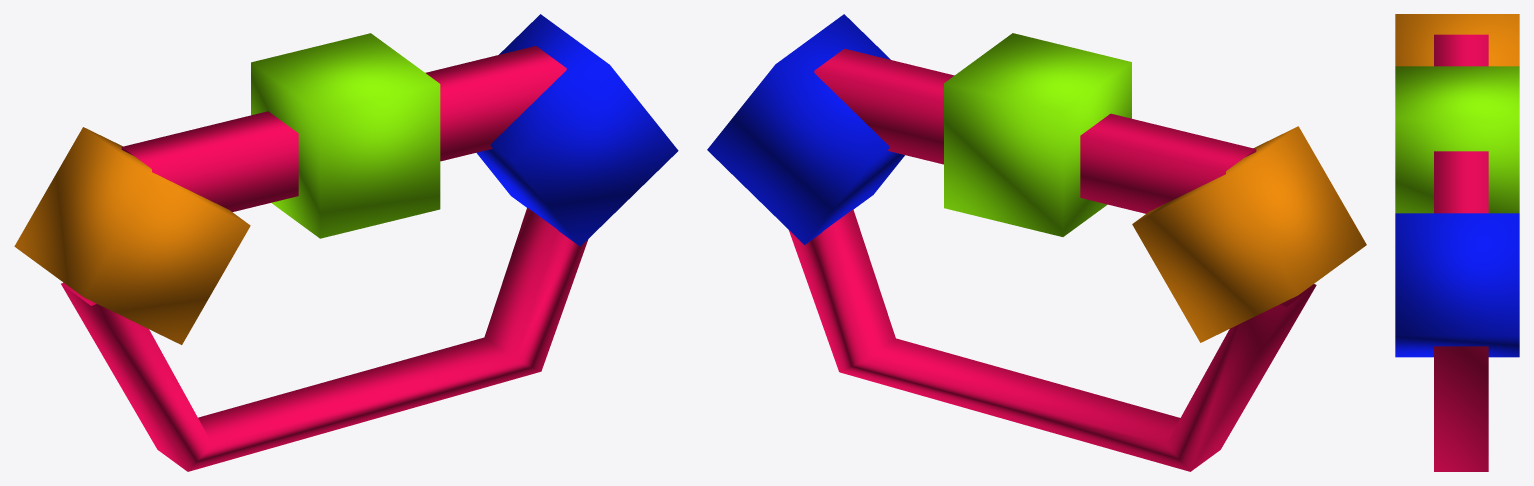
The model's file is Babytoy_1.fbx.
3 views of the same model, side by side, from view 1: azimuth 30°, elevation 25°; view 2: azimuth 150°, elevation 25°; view 3: azimuth 270°, elevation 25° (orthographic). The views are drawn at different scales.
Parts seen in each view (by area): view 1: Maya_File_Assets:TexturedAssetsCurrent:Assets:Shit; view 2: Maya_File_Assets:TexturedAssetsCurrent:Assets:Shit; view 3: Maya_File_Assets:TexturedAssetsCurrent:Assets:Shit.
Part boxes in pixels (box(x1,y1,x2,y2)): Maya_File_Assets:TexturedAssetsCurrent:Assets:Shit: box(14, 14, 678, 471); Maya_File_Assets:TexturedAssetsCurrent:Assets:Shit: box(707, 14, 1366, 471); Maya_File_Assets:TexturedAssetsCurrent:Assets:Shit: box(1395, 14, 1519, 471).
Size of the model in its own units: 0.2076 by 0.1158 by 0.0419.
